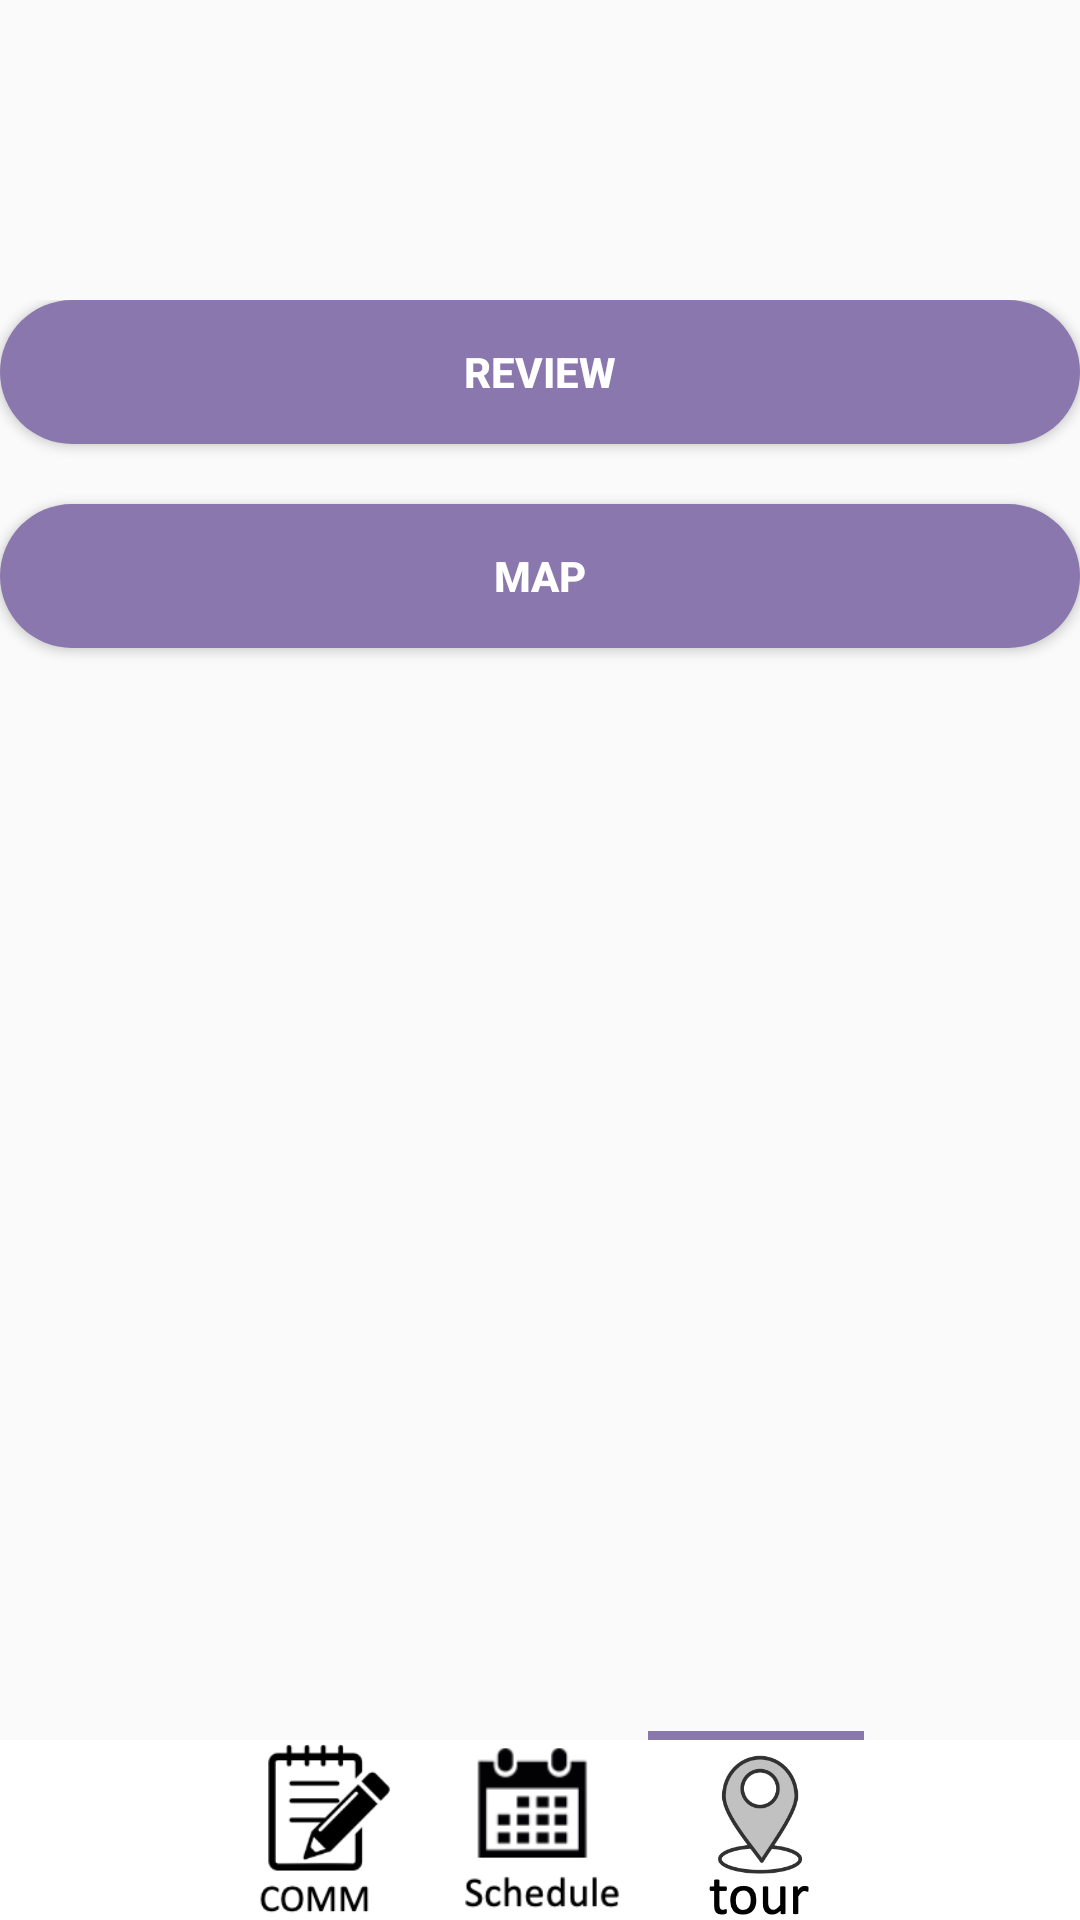

Icon bounding boxes for this 1080 x 1920 phone screenshot, format rect(x1, y1, x2, y2):
map: rect(709, 1755, 809, 1915)
